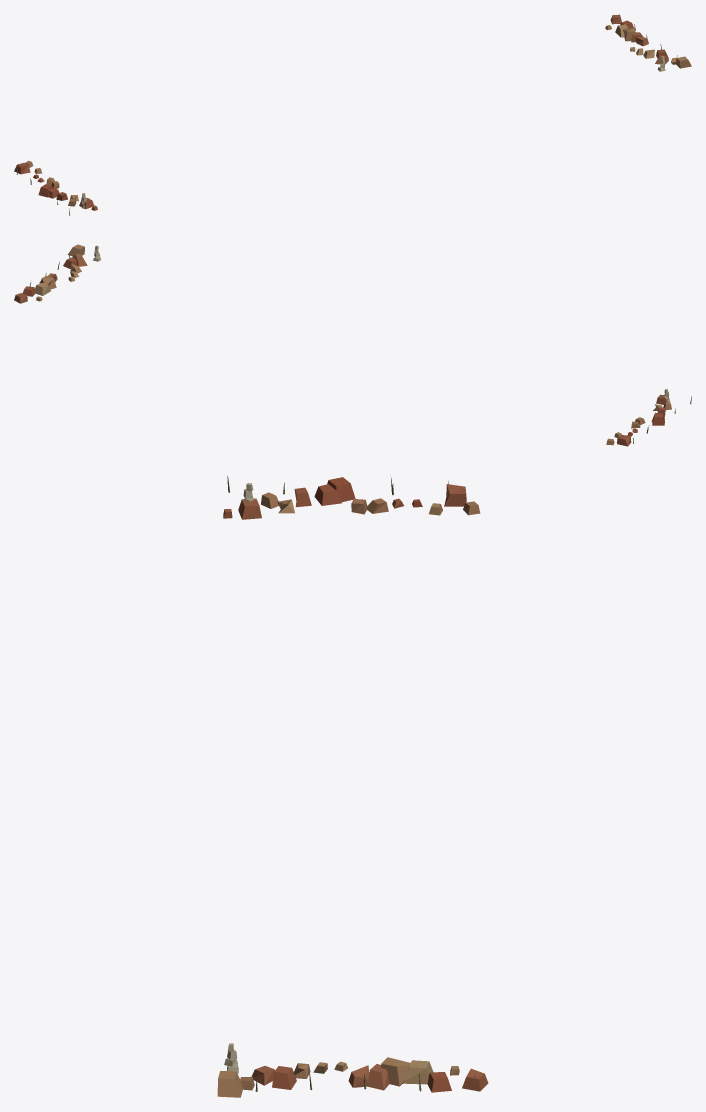
The model's file is mesa_lip_kicker_12x4x56_detail1.glb.
3 renders of one model, top to bottom at view 1: azimuth 30°, elevation 25°; view 2: azimuth 150°, elevation 25°; view 3: azimuth 270°, elevation 25°, orthographic. The views are drawn at different scales.
Parts seen in each view (by area): view 1: mesa_lip_kicker_12x4x56_detail1; view 2: mesa_lip_kicker_12x4x56_detail1; view 3: mesa_lip_kicker_12x4x56_detail1.
Part boxes in pixels (x1=…): mesa_lip_kicker_12x4x56_detail1: x1=14, y1=14, x2=691, y2=215; mesa_lip_kicker_12x4x56_detail1: x1=14, y1=244, x2=691, y2=446; mesa_lip_kicker_12x4x56_detail1: x1=217, y1=476, x2=488, y2=1097.
Size of the model in its own units: 63.47 by 1.33 by 11.96.
